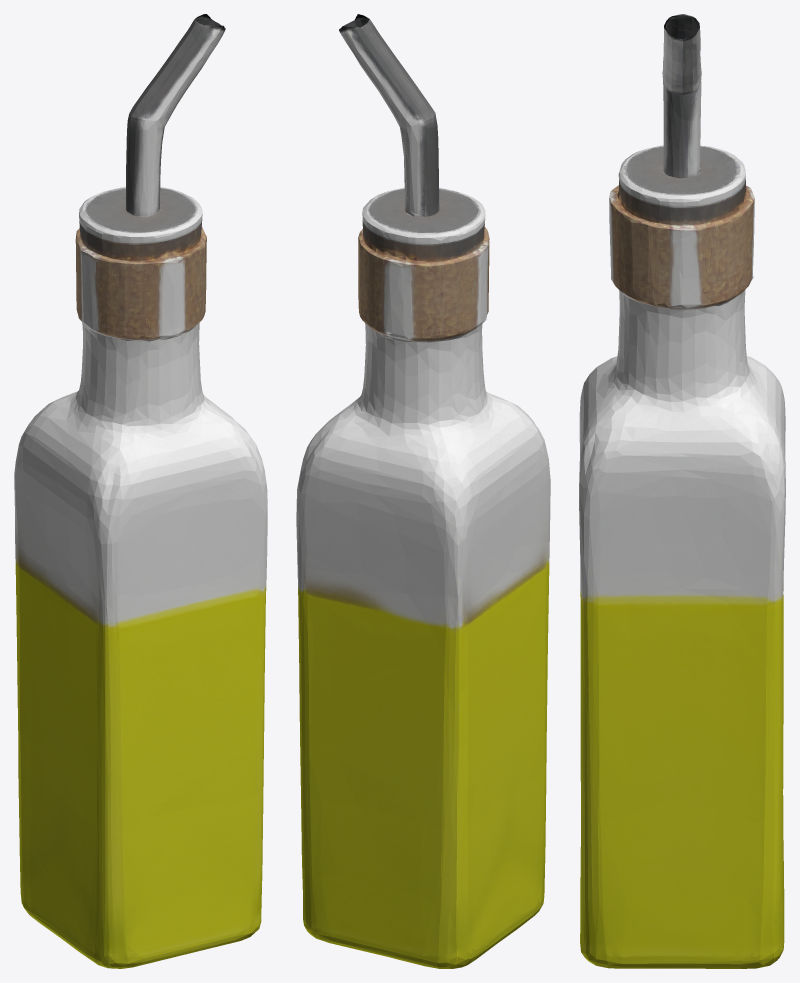
File: oliveoil.glb
The picture shows the model from 3 angles, left to right: view 1: azimuth 30°, elevation 25°; view 2: azimuth 150°, elevation 25°; view 3: azimuth 270°, elevation 25°; orthographic projection. The views are drawn at different scales.
Visible parts, largest first — view 1: world; view 2: world; view 3: world.
Part boxes in pixels (bbox=[...]): world: bbox=[14, 14, 267, 968]; world: bbox=[296, 14, 550, 968]; world: bbox=[579, 14, 785, 968].
Size of the model in its own units: 0.1998 by 1 by 0.1986.
1 material, 1 textured.
